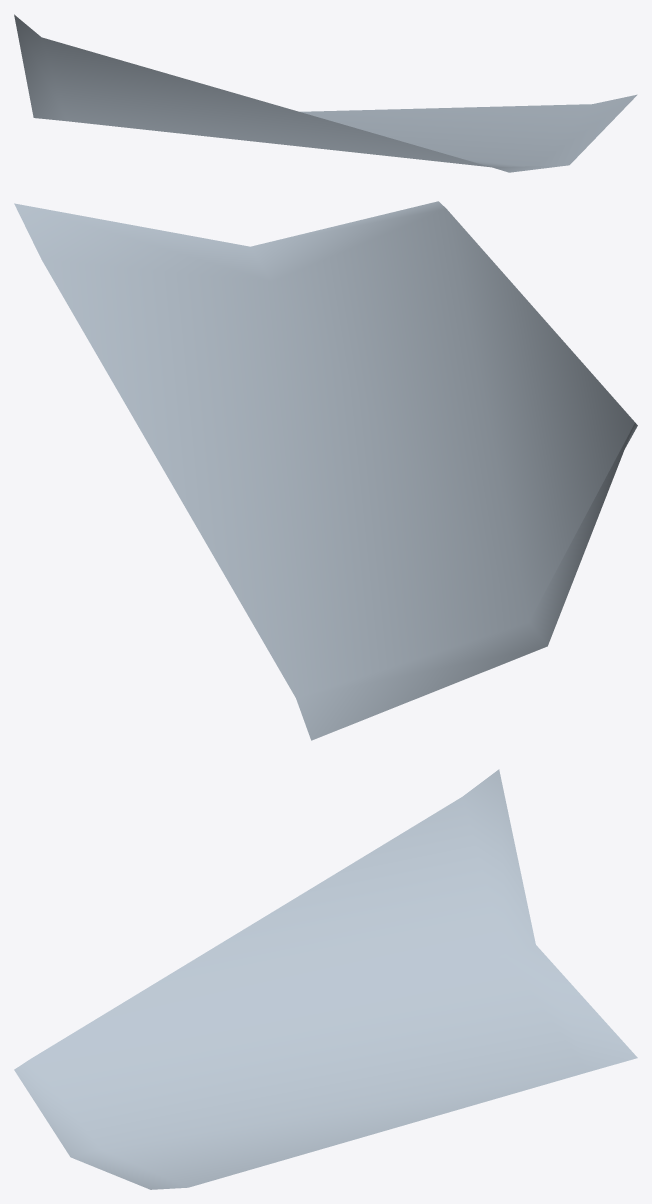
File: plantar-calcaneocuboid-ligament-l.glb
3 views of the same model, one above another, from view 1: azimuth 30°, elevation 25°; view 2: azimuth 150°, elevation 25°; view 3: azimuth 270°, elevation 25° (orthographic). The views are drawn at different scales.
Parts seen in each view (by area): view 1: Plantar calcaneocuboid ligament.l; view 2: Plantar calcaneocuboid ligament.l; view 3: Plantar calcaneocuboid ligament.l.
Boxes of the visible parts, x1,y1,x2,y2 form: Plantar calcaneocuboid ligament.l: [14, 14, 637, 172]; Plantar calcaneocuboid ligament.l: [14, 201, 637, 740]; Plantar calcaneocuboid ligament.l: [14, 769, 637, 1189].
Bounding box in the file's own units: 0.0165 × 0.00547 × 0.0146.
